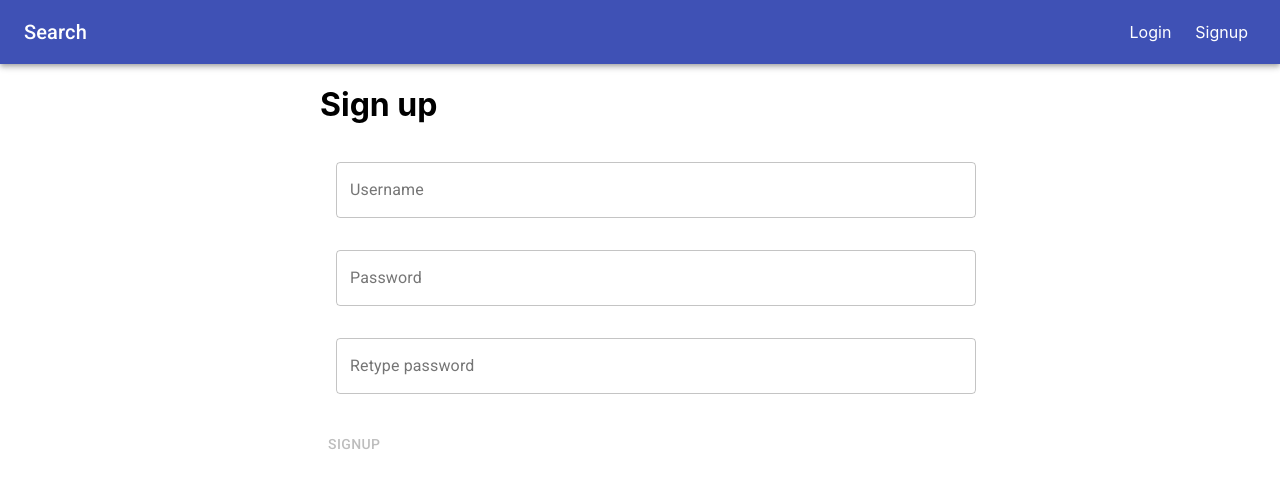
test submit button › disables submit button if any required inputs are missing
Expected: the button is disabled, [320,426,388,462]
Type "username" into the field labelled "Username" at (656, 190), box [336,162,976,218]
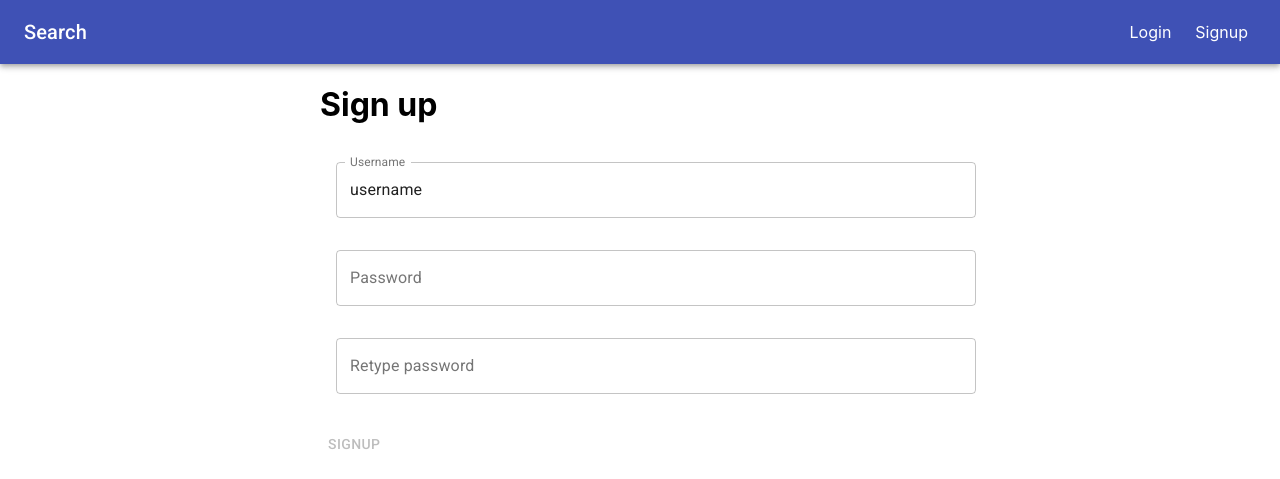
Expected: the button is disabled, [320,426,388,462]
Type "password" into the password field labelled "Password" at (656, 278), box [336,250,976,306]
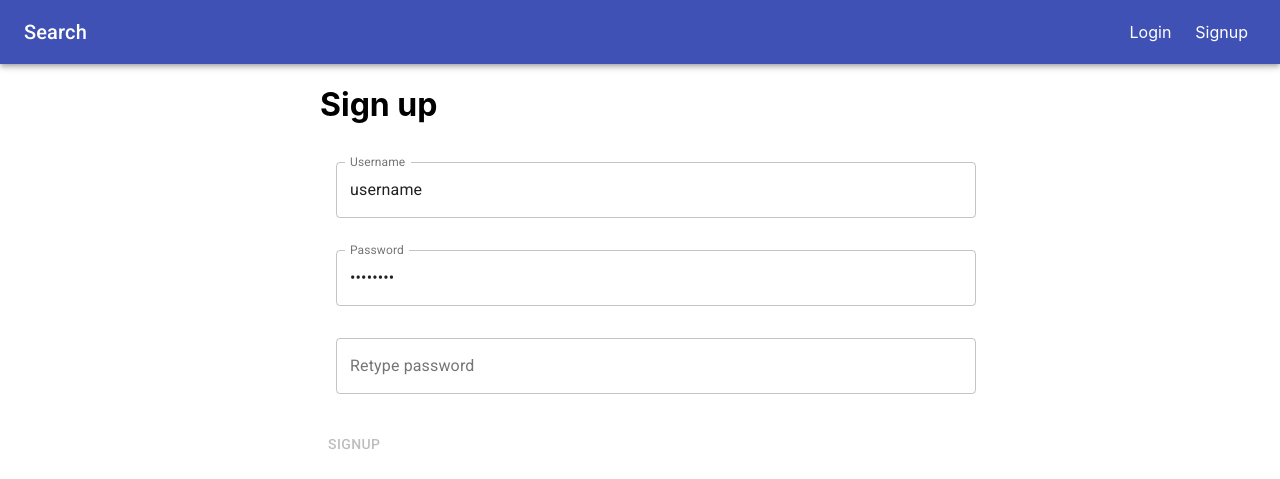
Expected: the button is disabled, [320,426,388,462]
Type "password" into the password field labelled "Retype password" at (656, 366), box [336,338,976,394]
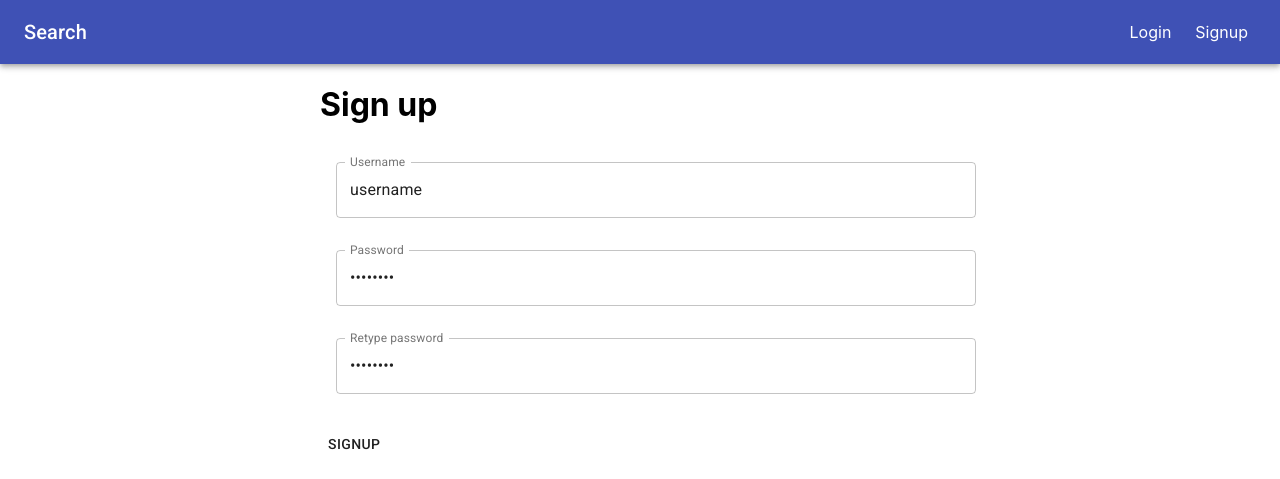
Expected: the button is enabled, [320,426,388,462]
